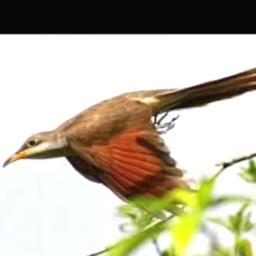Cuckoo: (3, 62, 256, 219)
